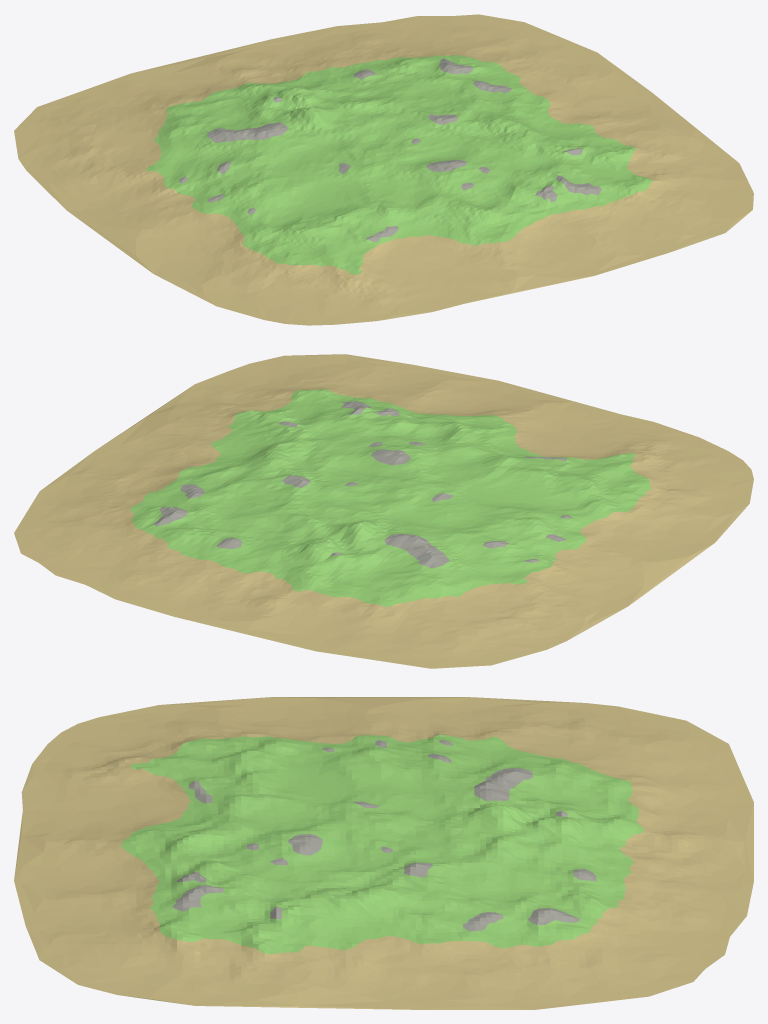
The model's file is CPT_Island_H_c1_04_LOD.fbx.
3 renders of one model, top to bottom at view 1: azimuth 30°, elevation 25°; view 2: azimuth 150°, elevation 25°; view 3: azimuth 270°, elevation 25°, orthographic. The views are drawn at different scales.
Visible parts, largest first — view 1: CPT_Island_H_c1_04_LOD0; view 2: CPT_Island_H_c1_04_LOD0; view 3: CPT_Island_H_c1_04_LOD0.
Boxes of the visible parts, x1=… form: CPT_Island_H_c1_04_LOD0: x1=14, y1=14, x2=753, y2=325; CPT_Island_H_c1_04_LOD0: x1=14, y1=354, x2=753, y2=668; CPT_Island_H_c1_04_LOD0: x1=14, y1=697, x2=753, y2=1009.
Size of what is drawn, in the model's own units: 50000 by 2593 by 50000.
